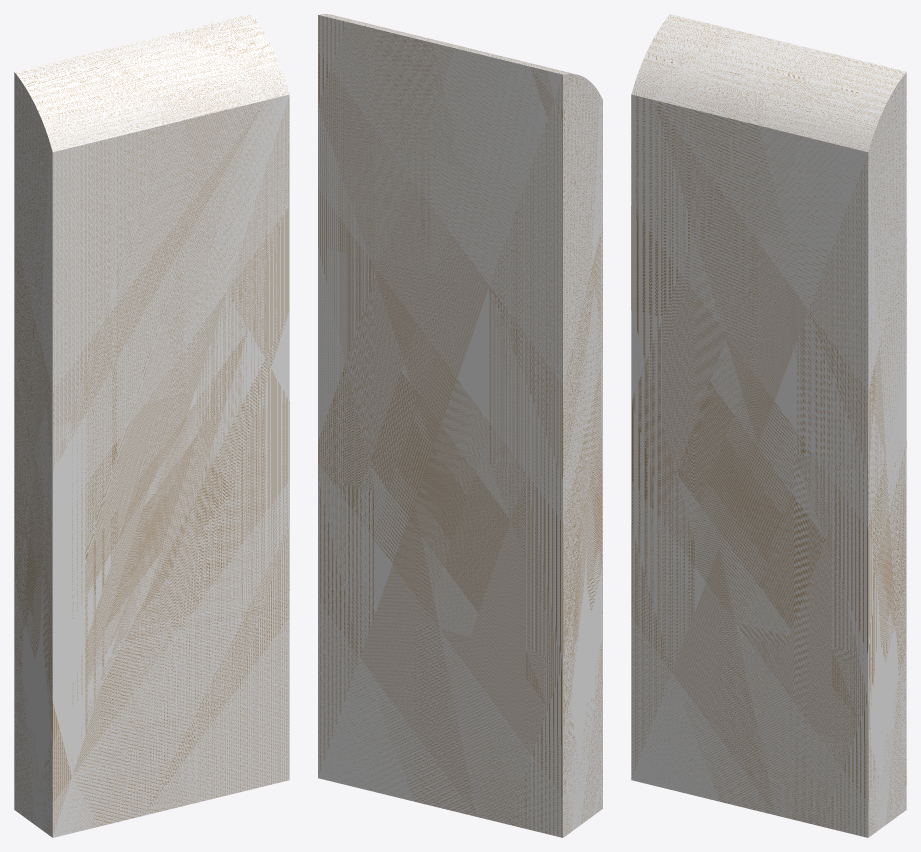
File: original-7.obj
3 views of the same model, side by side, from view 1: azimuth 30°, elevation 25°; view 2: azimuth 150°, elevation 25°; view 3: azimuth 330°, elevation 25° (orthographic). The views are drawn at different scales.
Parts seen in each view (by area): view 1: mesh5/mesh5-geometry#mesh5-geometry; view 2: mesh5/mesh5-geometry#mesh5-geometry; view 3: mesh5/mesh5-geometry#mesh5-geometry.
Part boxes in pixels (left/top/right/bottom): mesh5/mesh5-geometry#mesh5-geometry: left=14, top=14, right=289, bottom=837; mesh5/mesh5-geometry#mesh5-geometry: left=318, top=14, right=602, bottom=837; mesh5/mesh5-geometry#mesh5-geometry: left=631, top=14, right=906, bottom=837.
Size of the model in its own units: 0.2369 by 0.7054 by 0.0665.
